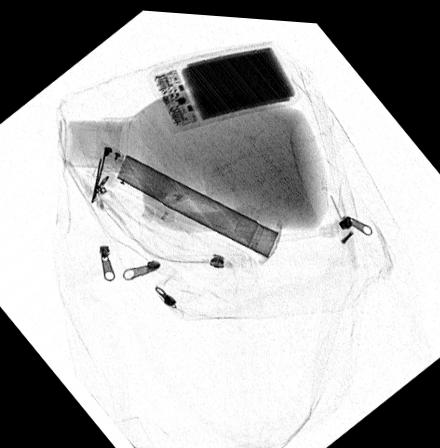Powerbank: (146, 37, 300, 130)
